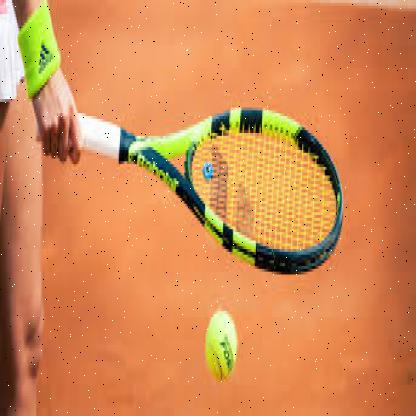tennis: (22, 54, 349, 294), (22, 60, 159, 181), (22, 57, 92, 130)
